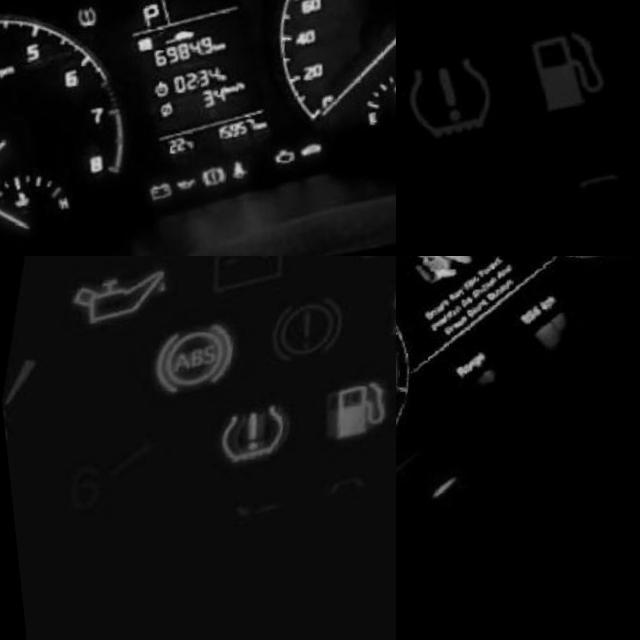Engine cooling system: (0, 189, 17, 215)
Low fuel level: (487, 0, 621, 149), (315, 382, 396, 480), (565, 256, 593, 273)
